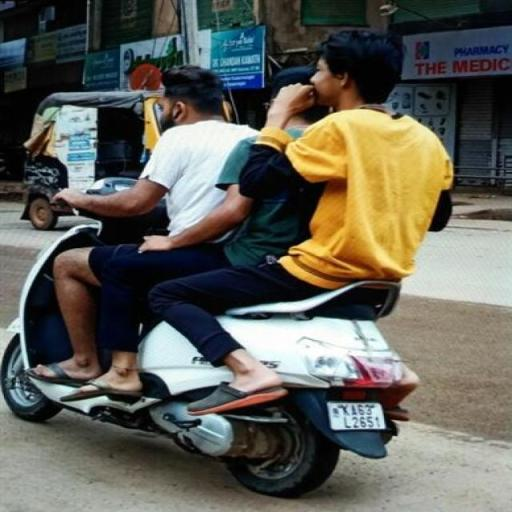tripple riding: (15, 27, 452, 298)
